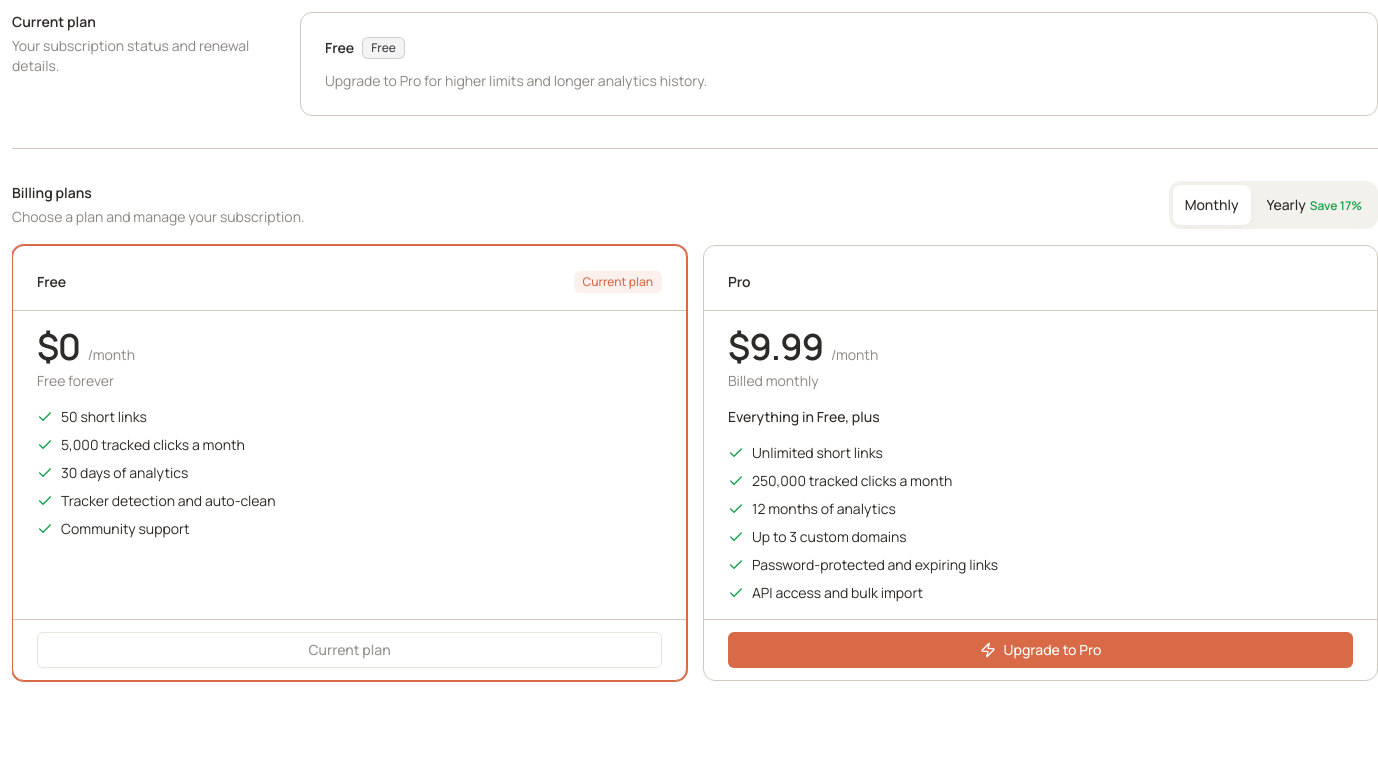
Test: BillingSettings plans › shows the yearly total and leaves Free pricing unchanged
Expected: the element named "Free plan" is shown, [12,245,687,681]
Click the button "Yearly Save 17%".
click(1314, 205)  # box [1255,185,1374,225]
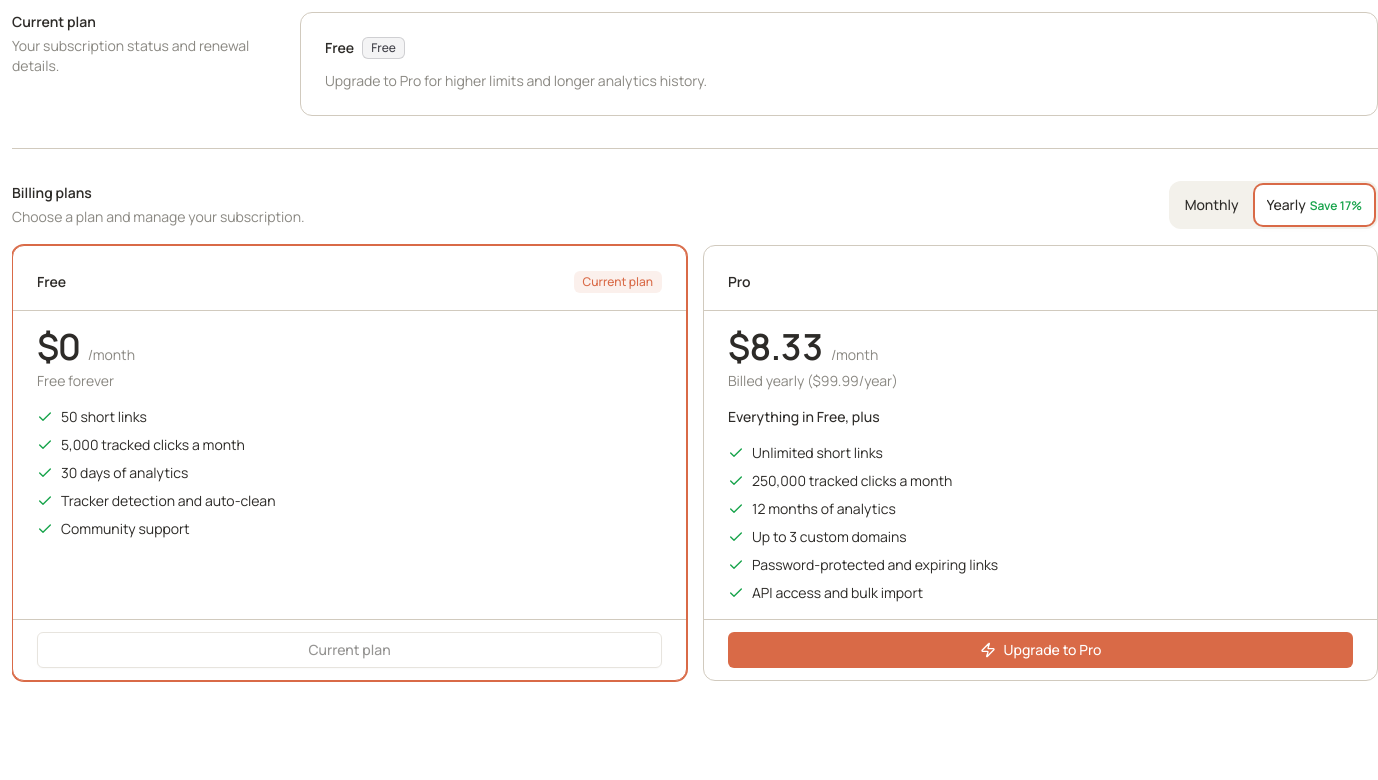
Expected: the message named "$0" is shown, [36,322,135,371]
Result: the message named "$8.33" is shown at [727,322,878,371]
Result: the text "Billed yearly ($99.99/year)" is shown at [728,371,898,390]
